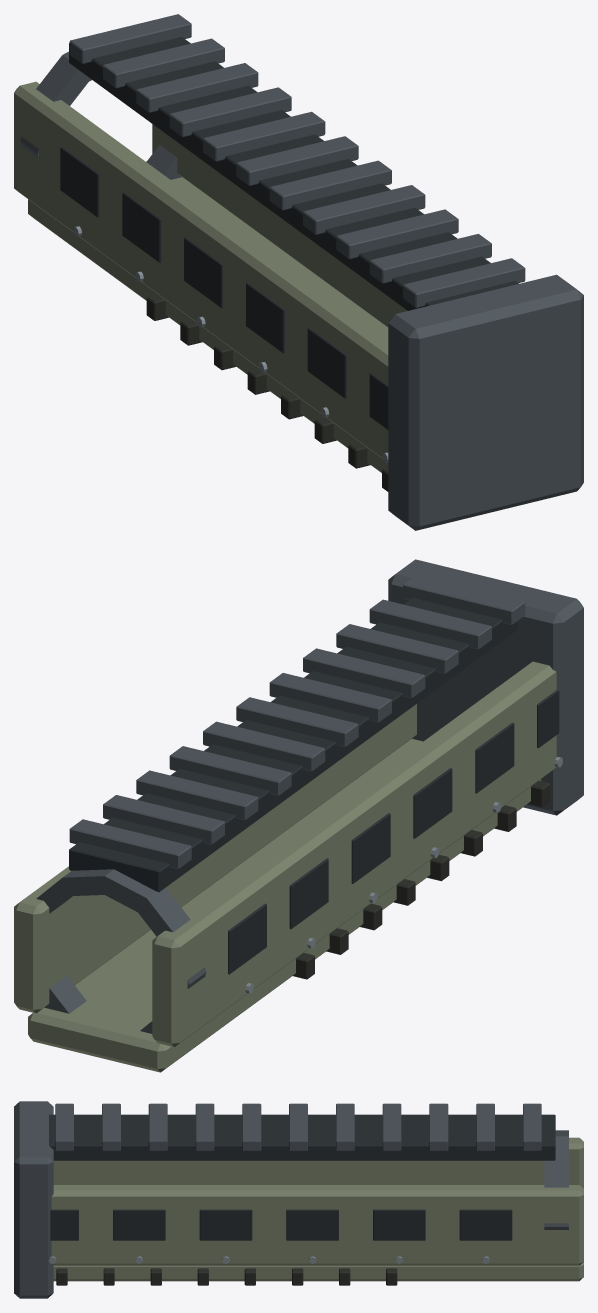
The model's file is weapon_boar12_handguard.glb.
3 views of the same model, one above another, from view 1: azimuth 30°, elevation 25°; view 2: azimuth 150°, elevation 25°; view 3: azimuth 270°, elevation 25° (orthographic). The views are drawn at different scales.
Visible parts, largest first — view 1: Geometry_weapon_boar12_handguard; view 2: Geometry_weapon_boar12_handguard; view 3: Geometry_weapon_boar12_handguard.
Part boxes in pixels (x1=…): Geometry_weapon_boar12_handguard: x1=14, y1=14, x2=583, y2=530; Geometry_weapon_boar12_handguard: x1=14, y1=559, x2=583, y2=1072; Geometry_weapon_boar12_handguard: x1=14, y1=1101, x2=583, y2=1298.
Bounding box in the file's own units: 0.0754 × 0.087 × 0.3025.
